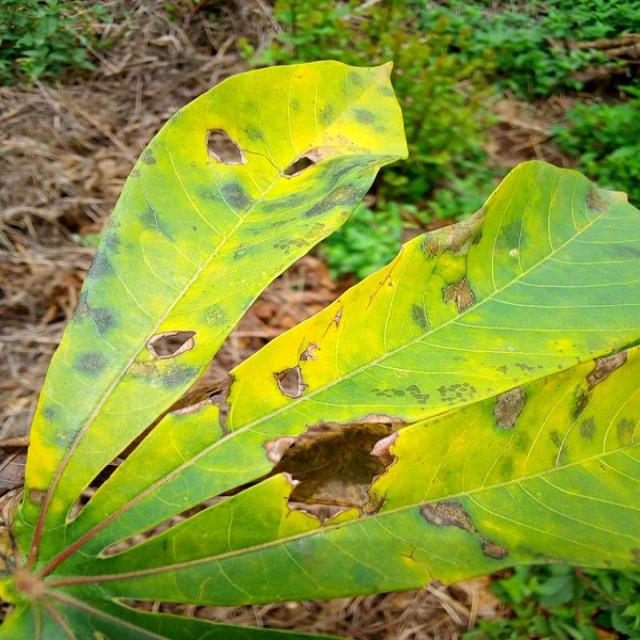cassava leaf: (5, 57, 638, 625)
